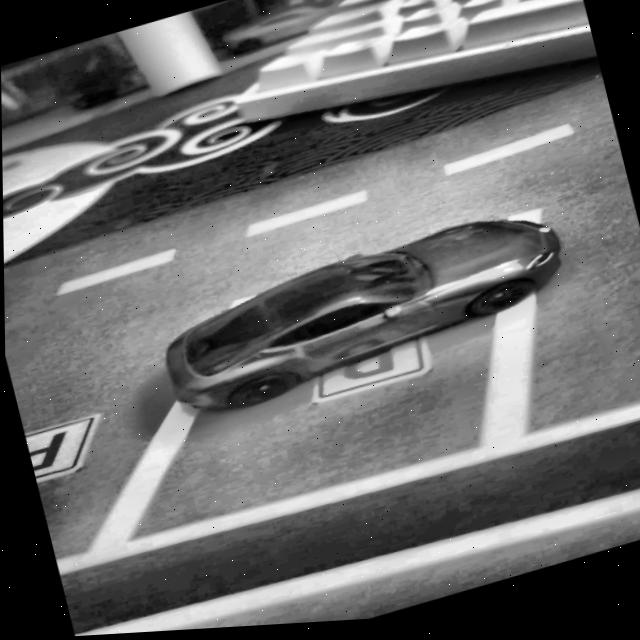car: (149, 202, 577, 430), (219, 0, 352, 60)
